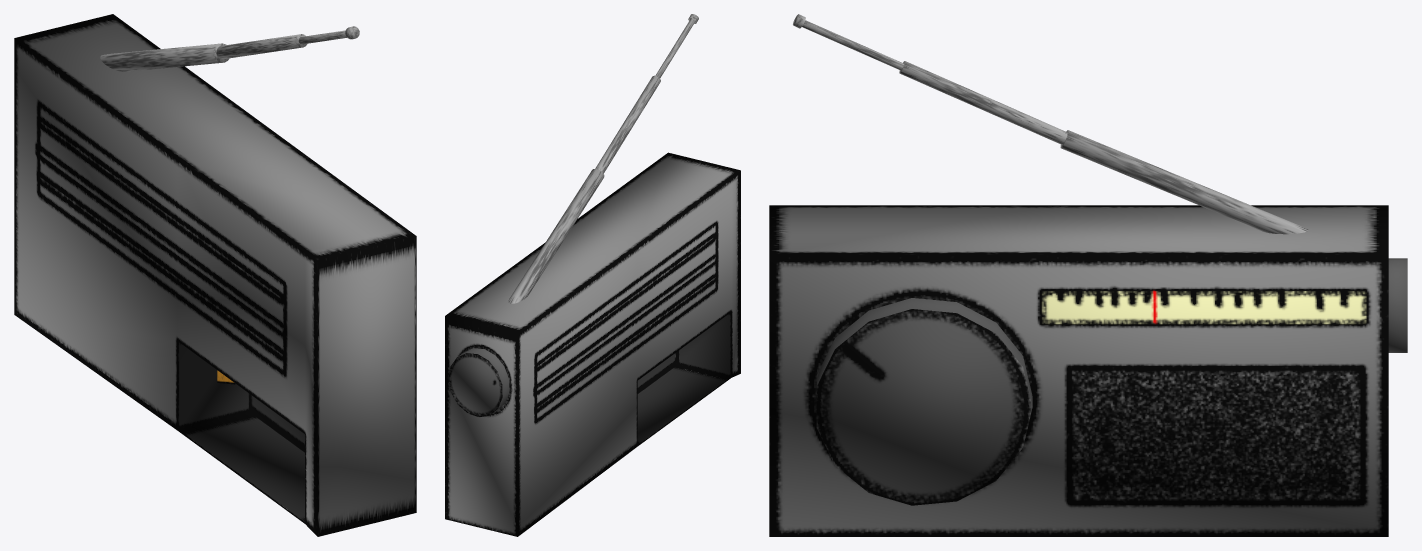
File: Radio_n_Batery.obj
3 renders of one model, left to right at view 1: azimuth 30°, elevation 25°; view 2: azimuth 150°, elevation 25°; view 3: azimuth 270°, elevation 25°, orthographic. The views are drawn at different scales.
Parts seen in each view (by area): view 1: radio.001; view 2: radio.001; view 3: radio.001.
Boxes of the visible parts, box(x1,y1,x2,y2) form: radio.001: box(14, 14, 416, 536); radio.001: box(445, 14, 740, 536); radio.001: box(769, 14, 1407, 536).
Size of the model in its own units: 0.4608 by 1.77 by 2.06.
